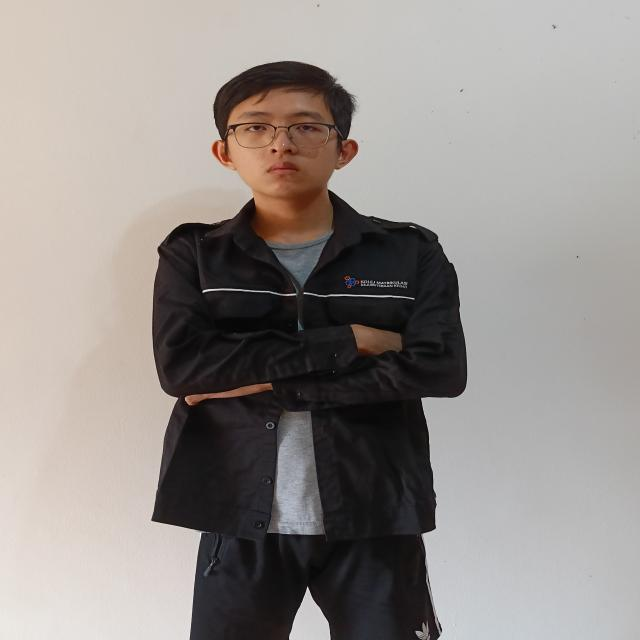person_with_labcoat: (152, 62, 467, 640)
